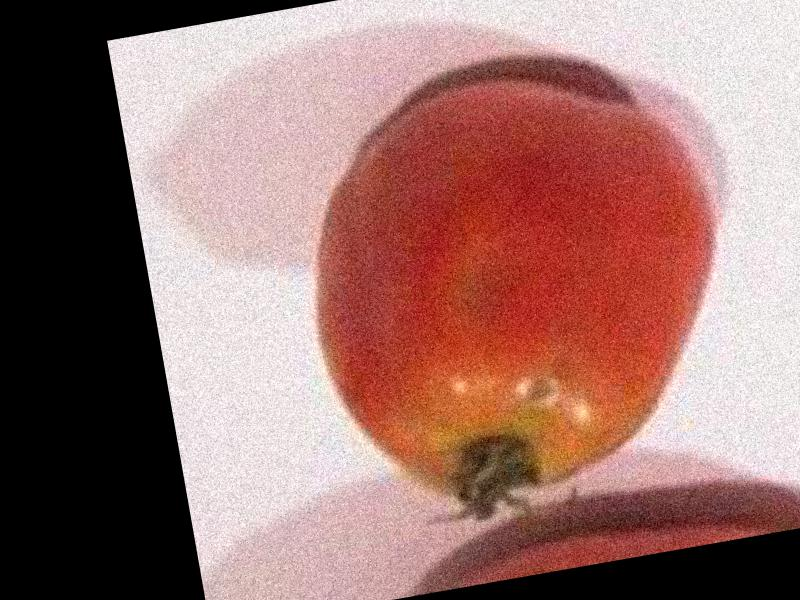Tomato: (285, 56, 753, 525)
